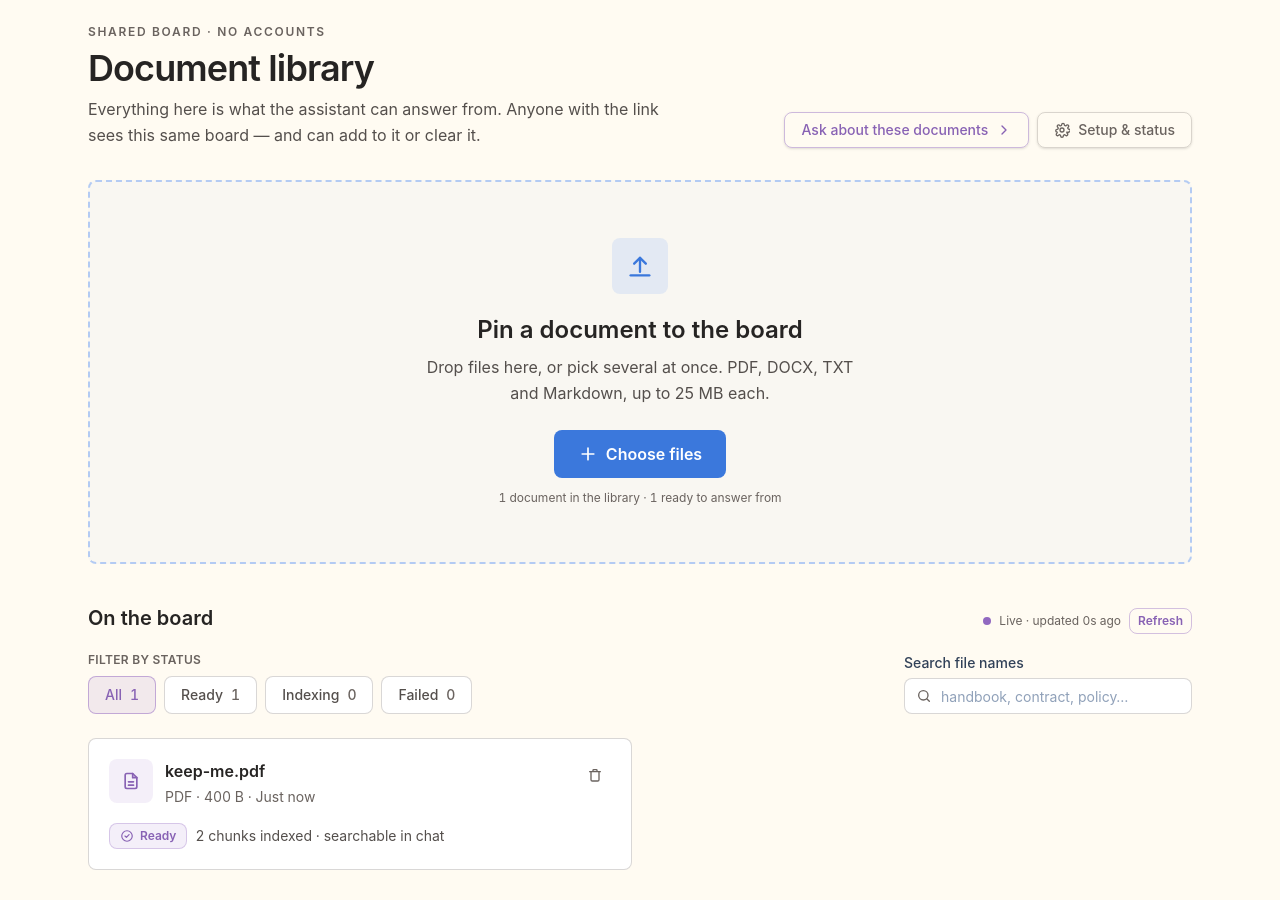
Test: Documents screen — indexing progress and failures › cancelling the confirmation keeps the document and issues no DELETE request
The width and height of the screenshot is (1280, 900).
expect the heading "keep-me.pdf" is shown: met, box [165,761,265,781]
Click the button named "delete keep-me.pdf": (595,775) [579,759,611,791]
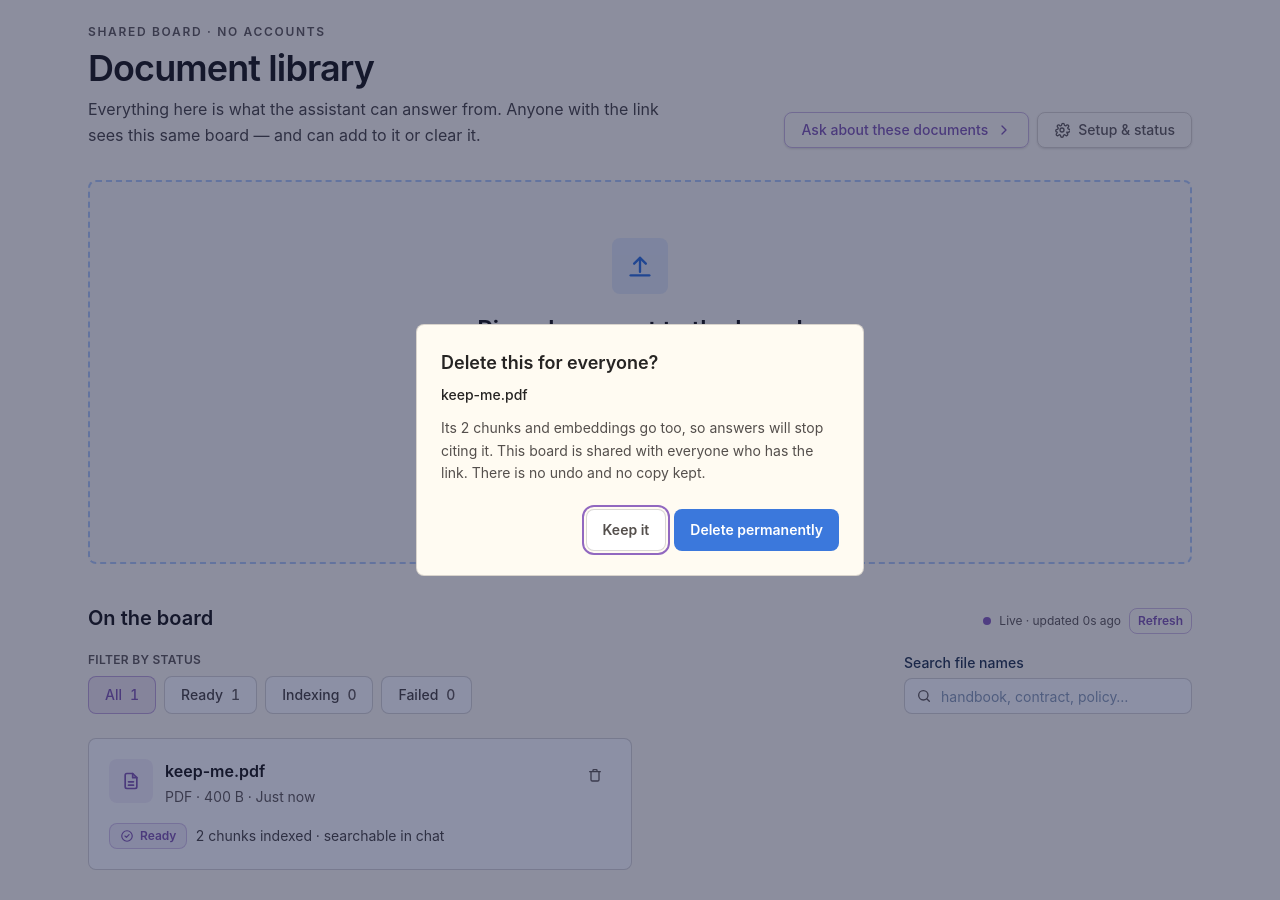
Click the button "Keep it": (626,530) [586,509,666,551]
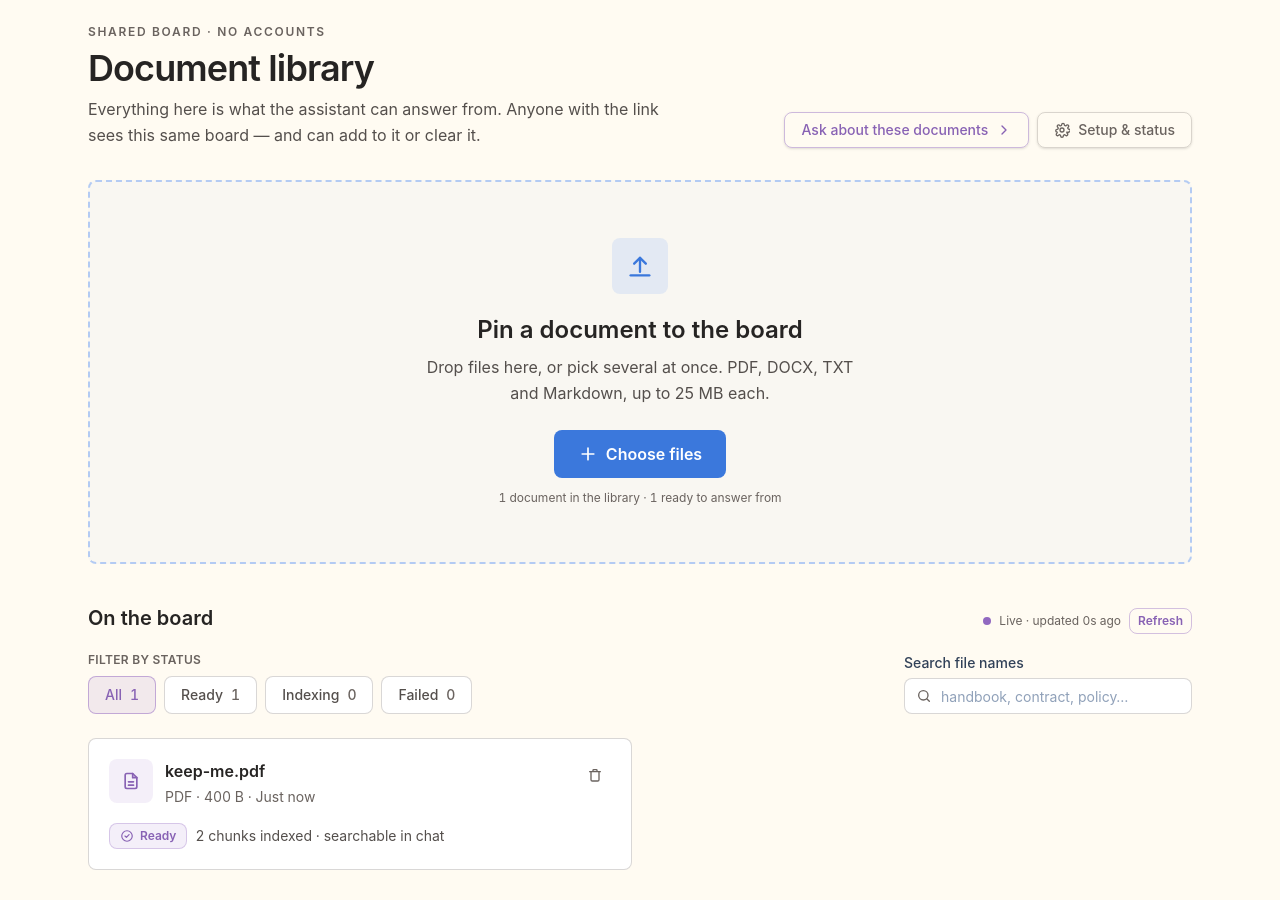
expect the heading "keep-me.pdf" is shown: met, box [165,761,265,781]
expect the dialog is gone: met
